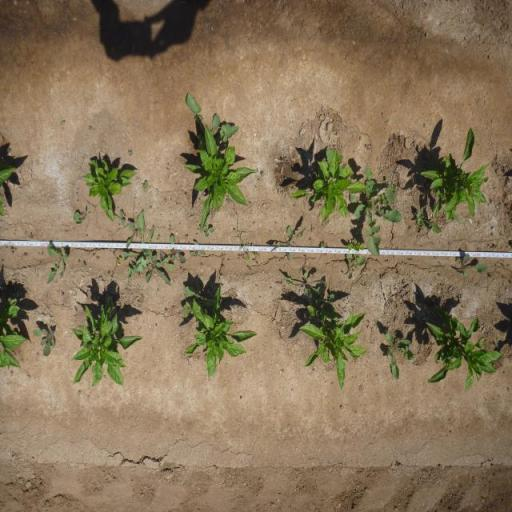plant: (184, 122, 259, 223), (66, 293, 144, 389), (181, 283, 258, 378), (423, 306, 505, 394), (292, 304, 368, 391), (424, 126, 490, 219), (288, 150, 367, 223), (82, 157, 138, 221), (0, 292, 26, 372)
weed: (354, 163, 404, 257), (184, 91, 240, 137), (123, 208, 158, 279), (383, 329, 415, 382), (269, 223, 309, 261), (179, 283, 216, 319), (284, 272, 327, 300), (44, 244, 68, 286), (234, 234, 261, 268), (31, 324, 57, 358), (144, 254, 170, 288), (414, 211, 442, 238), (458, 253, 488, 278), (169, 235, 187, 265), (316, 293, 338, 316), (342, 257, 365, 279), (126, 218, 138, 248), (189, 240, 205, 258), (72, 207, 87, 225), (347, 239, 365, 252), (384, 177, 397, 191), (114, 210, 125, 226), (162, 258, 175, 270), (204, 226, 214, 238), (8, 245, 16, 255), (458, 293, 464, 304), (115, 257, 123, 265), (281, 156, 289, 164), (142, 180, 148, 190), (28, 232, 34, 240), (127, 150, 134, 156), (320, 241, 326, 248), (492, 243, 498, 249), (22, 252, 28, 257), (88, 125, 94, 130), (232, 228, 237, 233), (82, 262, 86, 268), (186, 234, 190, 240), (260, 170, 264, 176), (157, 235, 161, 240), (60, 120, 65, 124)
